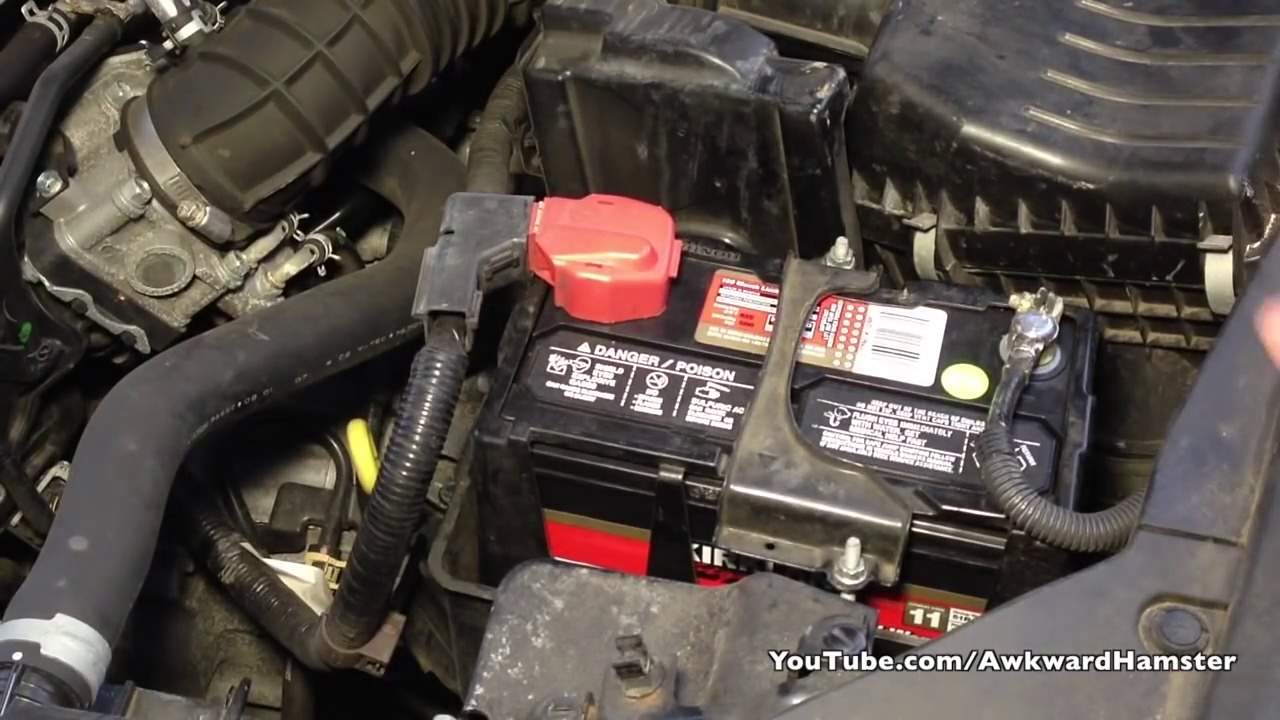battery: (474, 221, 1096, 534)
neg_connected: (990, 275, 1081, 392)
pos_connected: (497, 170, 691, 337)
